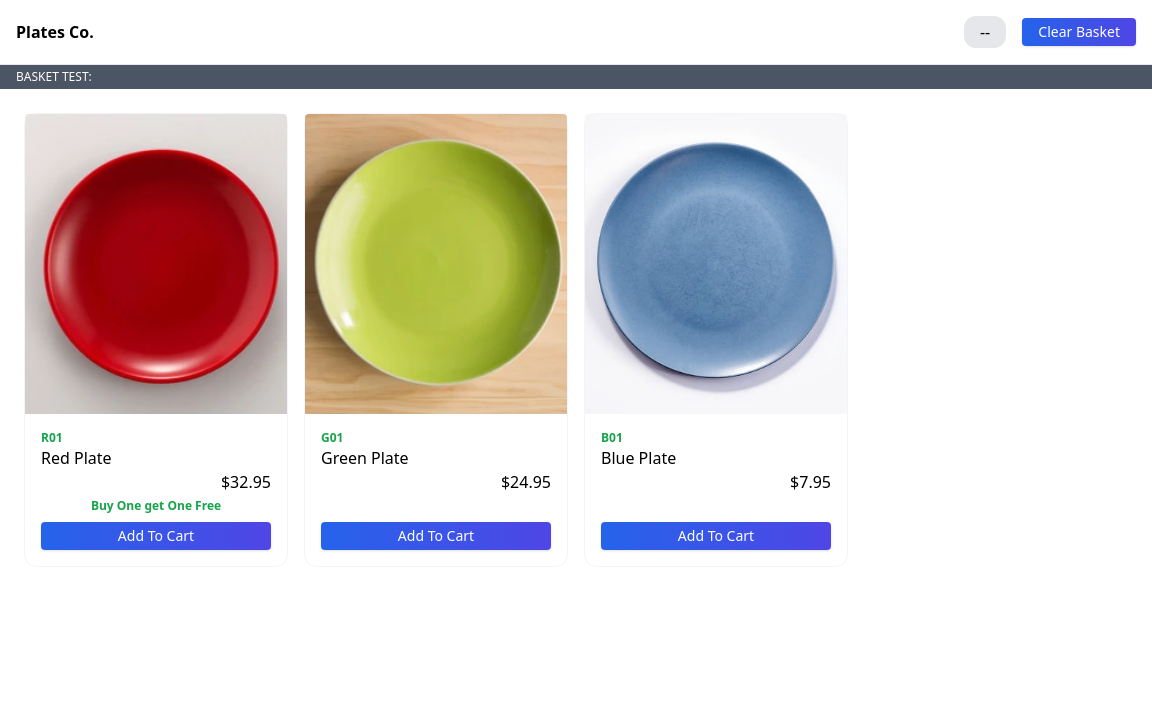
it: Basket: B01, B01 = $37.85
The width and height of the screenshot is (1152, 720).
expect the button with test id "B01" is shown: met, box x1=601 y1=522 x2=831 y2=550
expect the text "--" is shown: met, box x1=964 y1=16 x2=1006 y2=48
Click the button with test id "G01" at (436, 536), box x1=321 y1=522 x2=551 y2=550
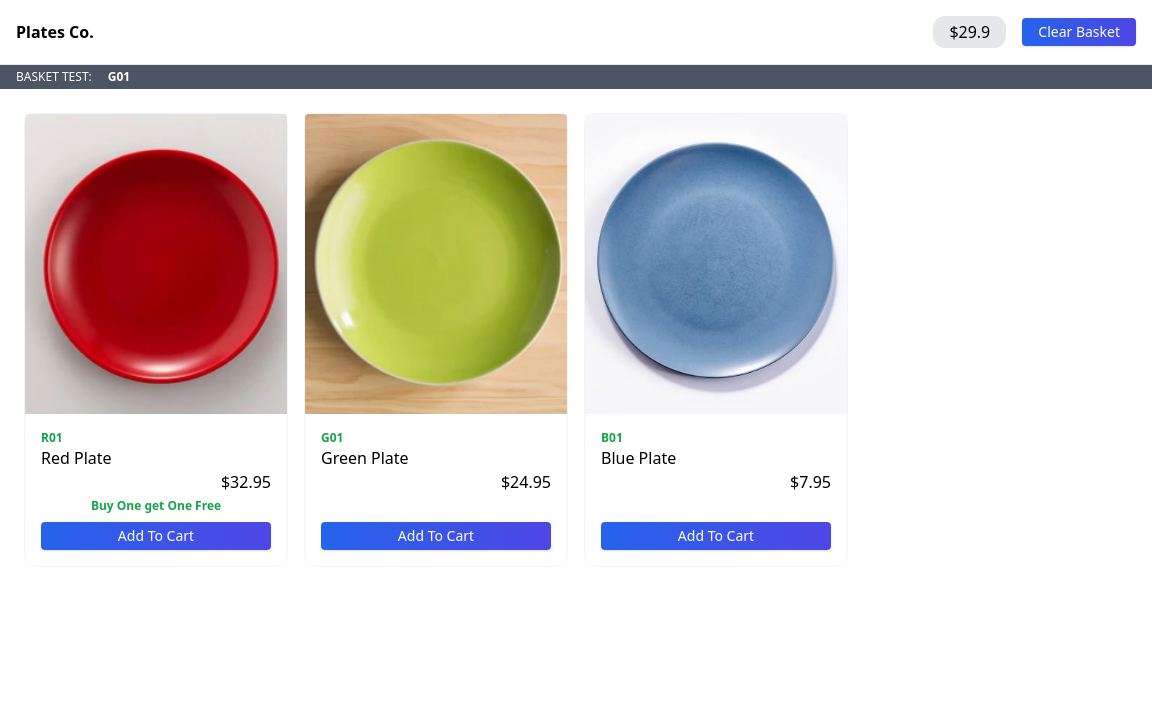
Click the button with test id "B01" at (716, 536), box x1=601 y1=522 x2=831 y2=550
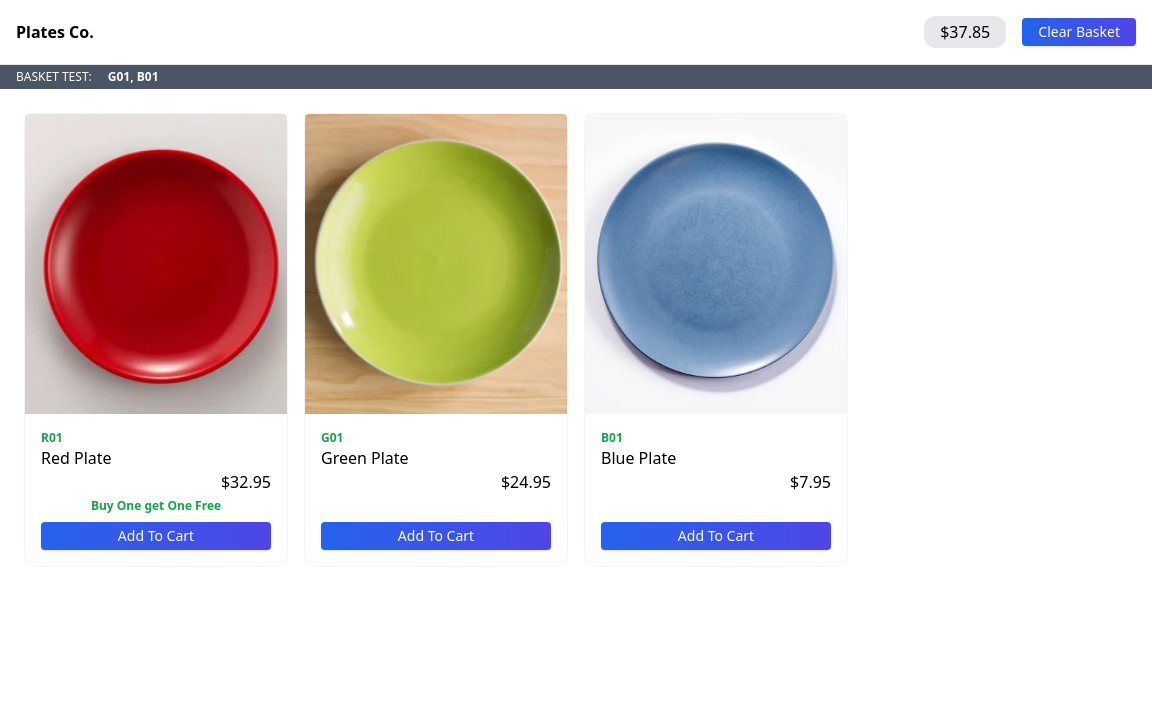
expect the text "$37.85" is shown: met, box x1=924 y1=16 x2=1006 y2=48
